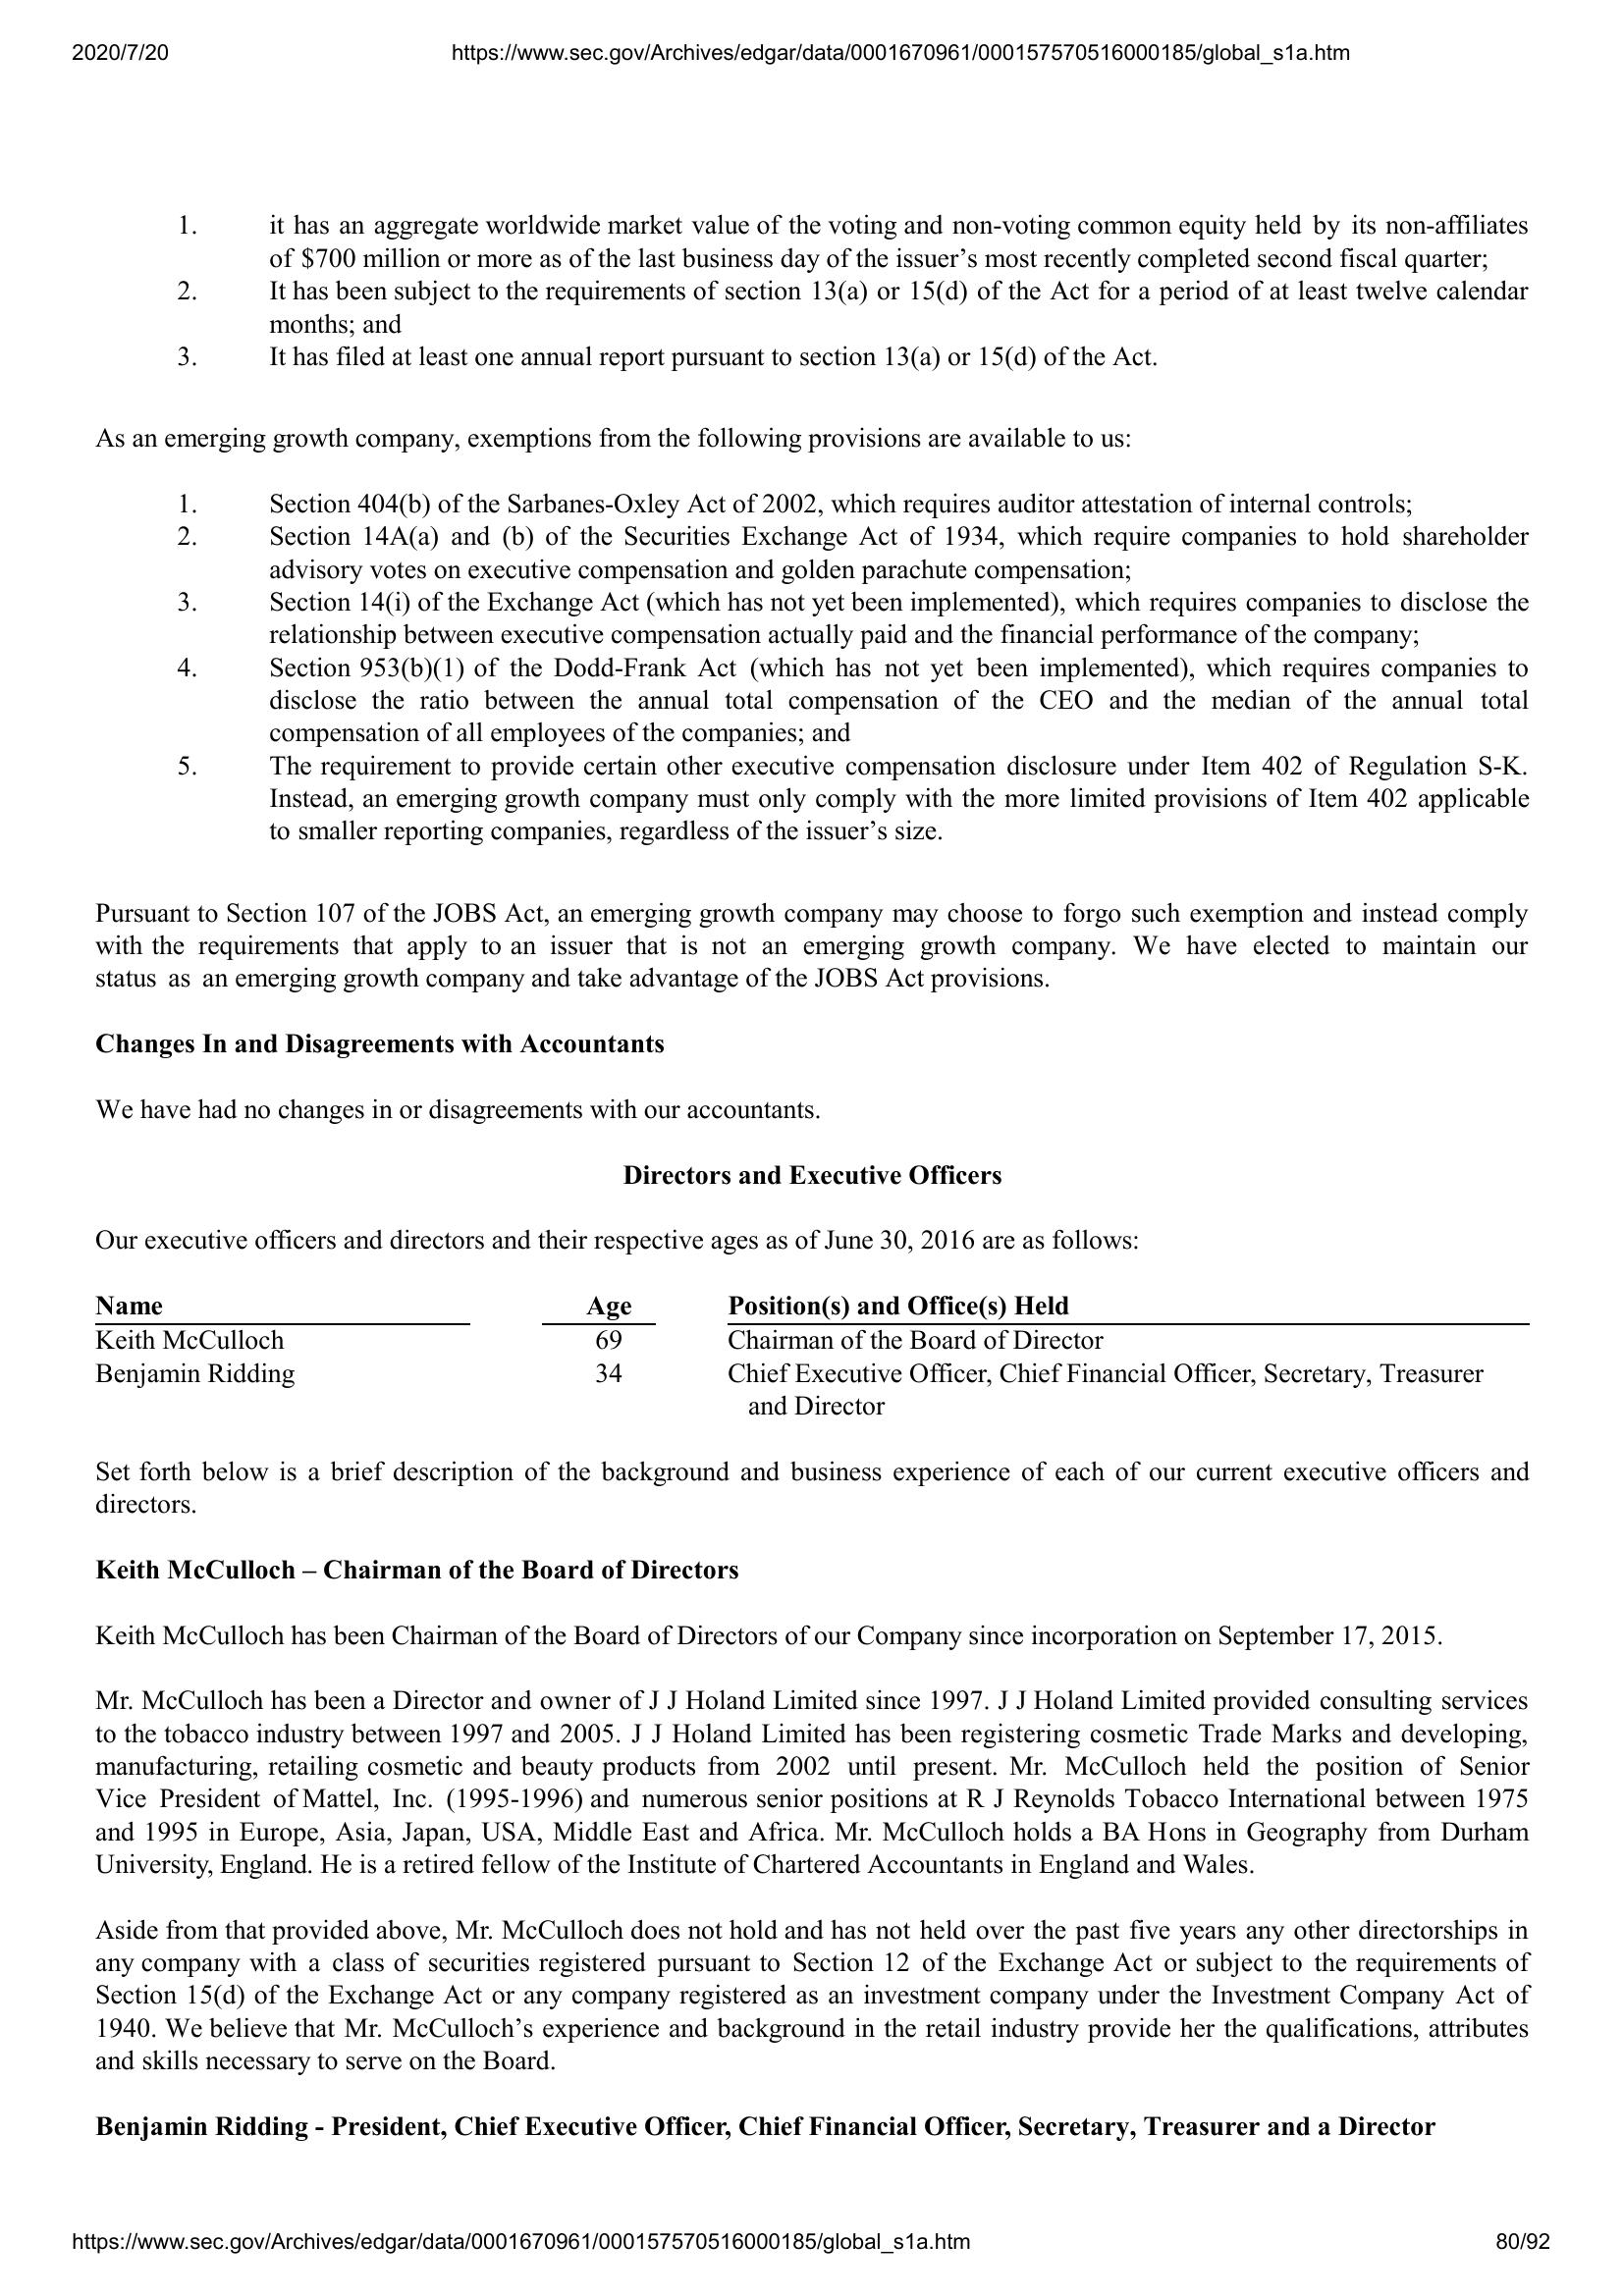table: (90, 1287, 1535, 1422)
